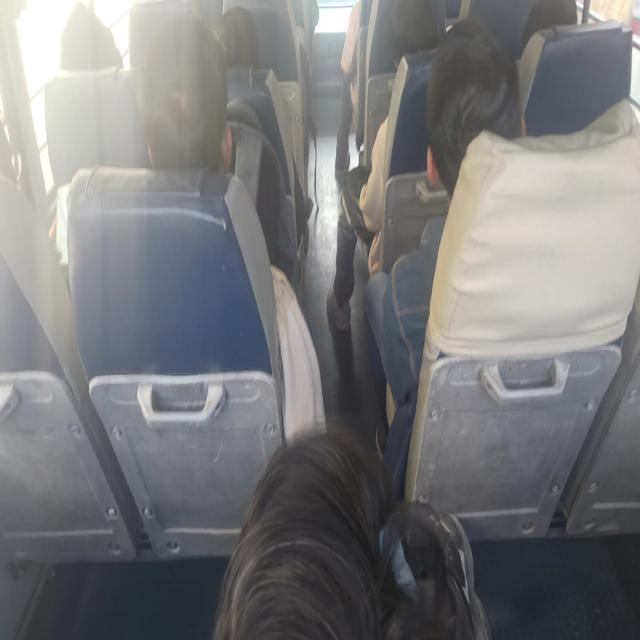person: (49, 11, 327, 438), (363, 17, 523, 500), (213, 426, 492, 638), (137, 13, 300, 295), (327, 1, 445, 330), (137, 13, 232, 172), (59, 1, 123, 71), (218, 6, 260, 68)
